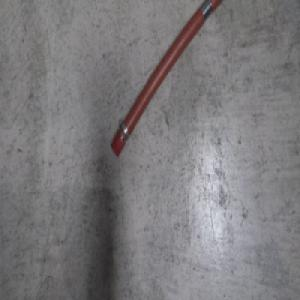Hose: (109, 0, 229, 161)
